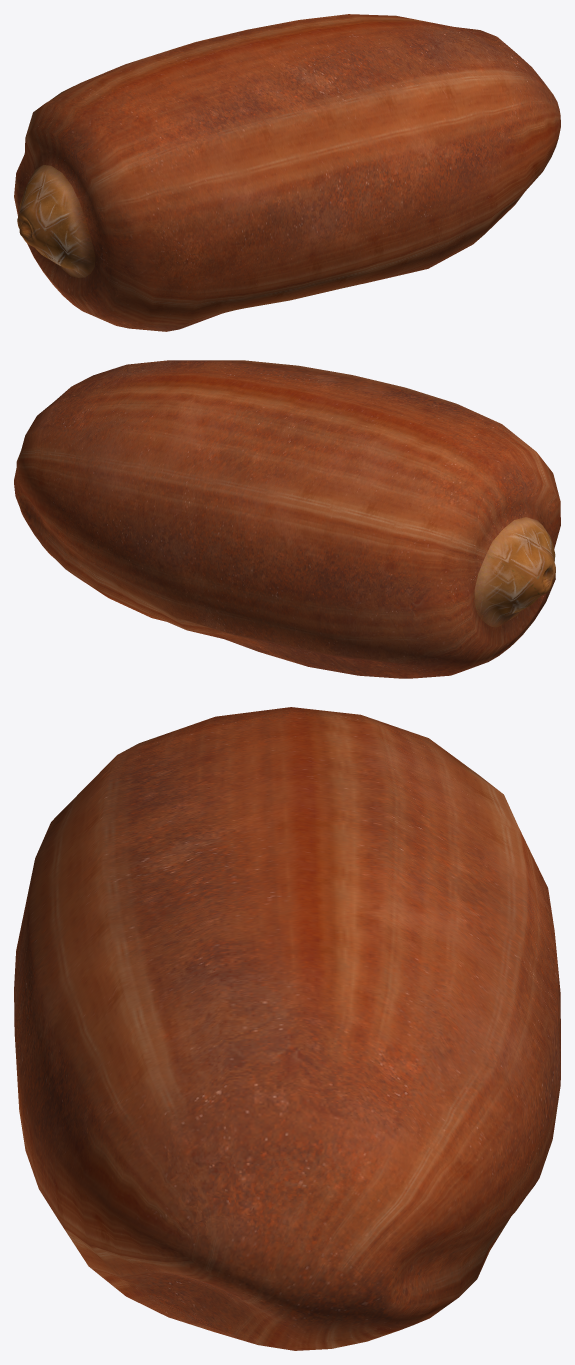
Rendered from date_fruit.glb.
3 views of the same model, one above another, from view 1: azimuth 30°, elevation 25°; view 2: azimuth 150°, elevation 25°; view 3: azimuth 270°, elevation 25° (orthographic). The views are drawn at different scales.
Visible parts, largest first — view 1: polySurface1; view 2: polySurface1; view 3: polySurface1.
Boxes of the visible parts, <box> form: polySurface1: <box>14,14,560,331</box>; polySurface1: <box>14,360,560,678</box>; polySurface1: <box>14,707,560,1350</box>.
Size of the model in its own units: 0.4432 by 0.206 by 0.2364.
Materials: 1 (1 with a texture image).
